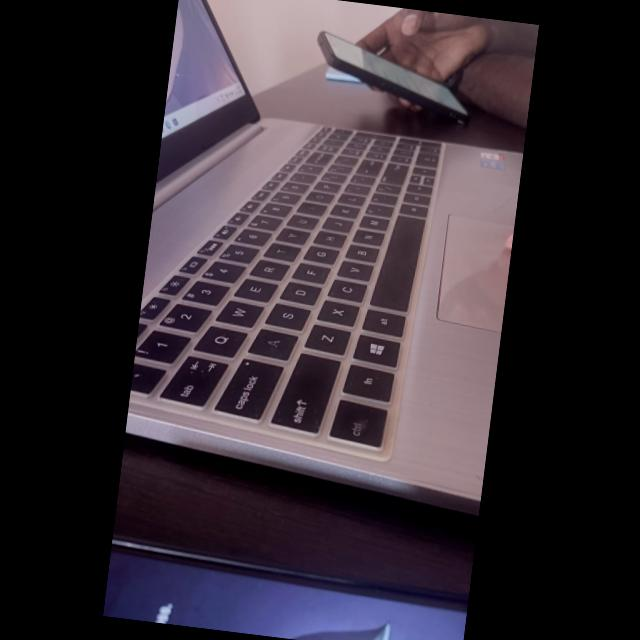laptop: (121, 106, 523, 532)
